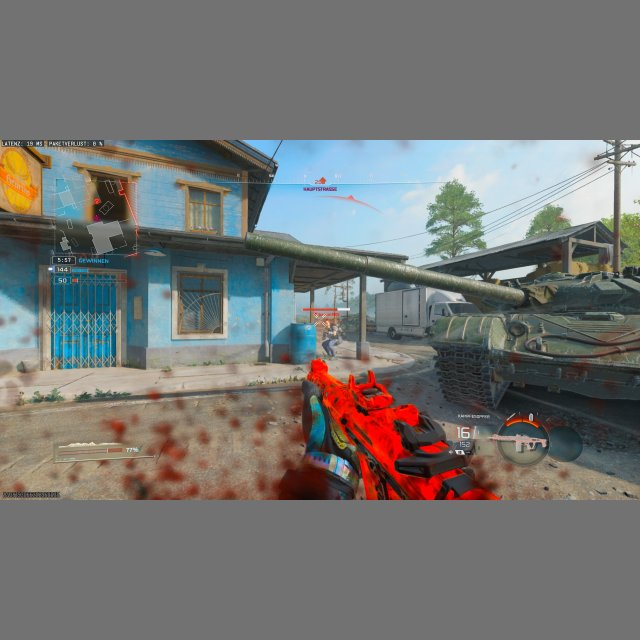player: (322, 320, 342, 359), (423, 325, 434, 339)
